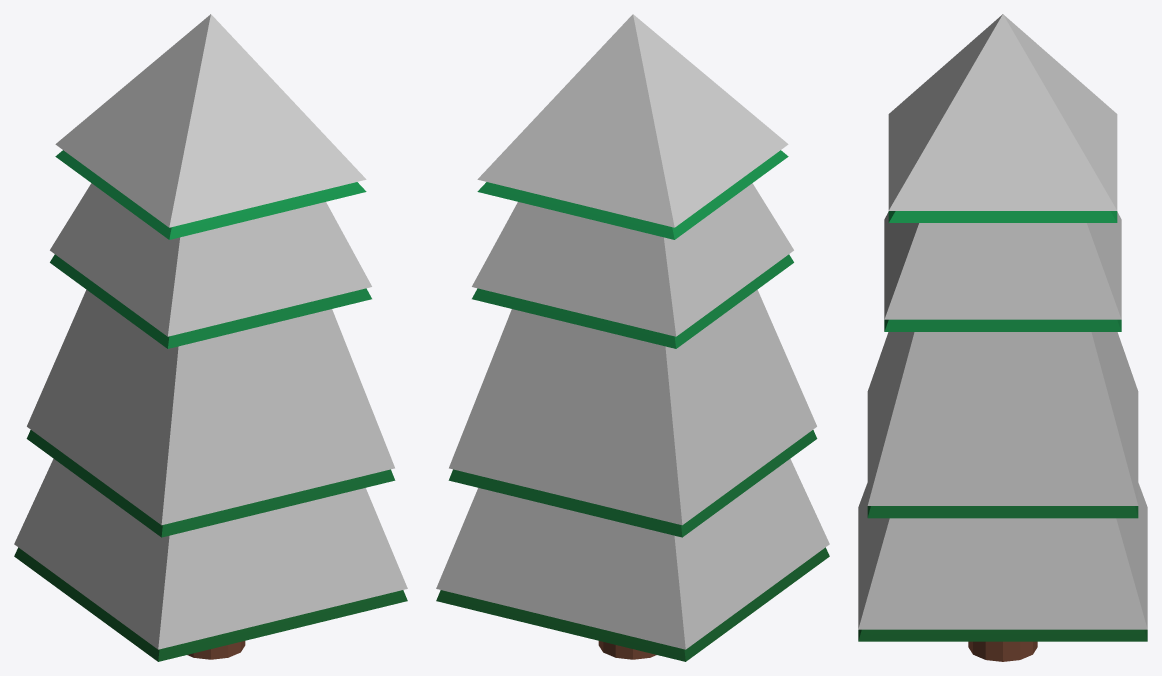
Rendered from Tree_17_winter_gradient_green_vc.fbx.
3 views of the same model, side by side, from view 1: azimuth 30°, elevation 25°; view 2: azimuth 150°, elevation 25°; view 3: azimuth 270°, elevation 25° (orthographic).
Parts seen in each view (by area): view 1: Tree_17_winter_gradient_green_vc; view 2: Tree_17_winter_gradient_green_vc; view 3: Tree_17_winter_gradient_green_vc.
Boxes of the visible parts, x1,y1,x2,y2 form: Tree_17_winter_gradient_green_vc: (14, 14, 407, 661); Tree_17_winter_gradient_green_vc: (436, 14, 829, 661); Tree_17_winter_gradient_green_vc: (858, 14, 1147, 661).
Bounding box in the file's own units: 65.5 × 158 × 65.5.
